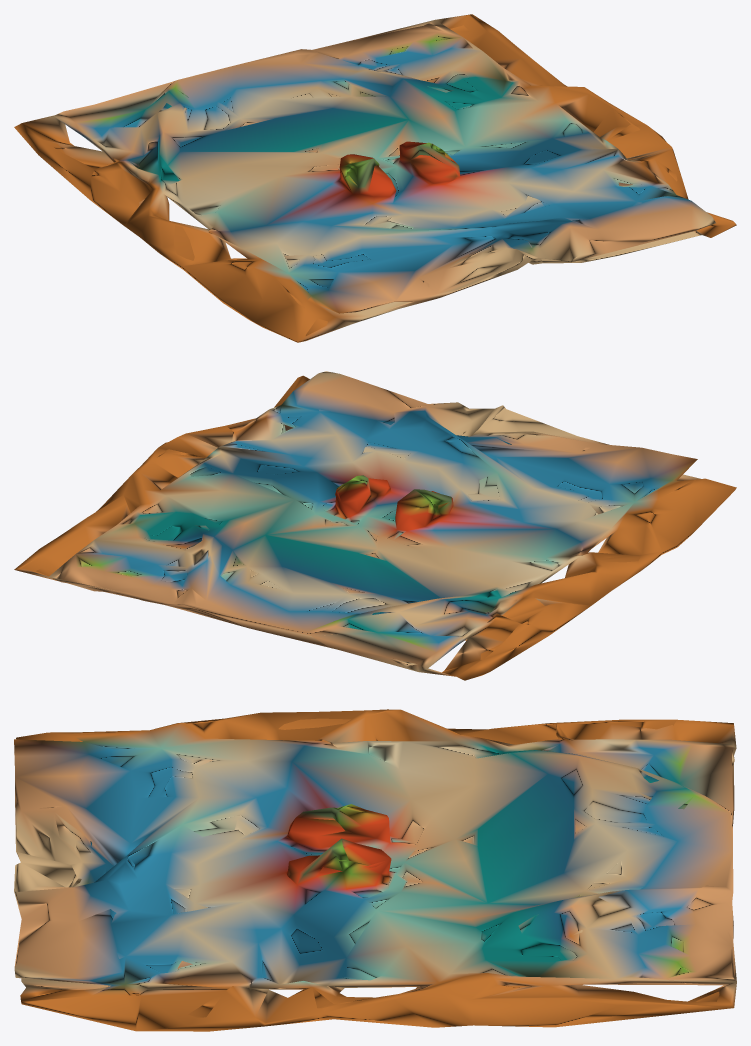
File: gen3d-beach-towel-lod1.glb
The picture shows the model from 3 angles, top to bottom: view 1: azimuth 30°, elevation 25°; view 2: azimuth 150°, elevation 25°; view 3: azimuth 270°, elevation 25°; orthographic projection. The views are drawn at different scales.
Parts seen in each view (by area): view 1: part_0; view 2: part_0; view 3: part_0.
Boxes of the visible parts, x1,y1,x2,y2 form: part_0: (14,14,736,342); part_0: (14,371,736,680); part_0: (14,709,736,1031).
Bounding box in the file's own units: 9.1 × 0.9889 × 9.01.
